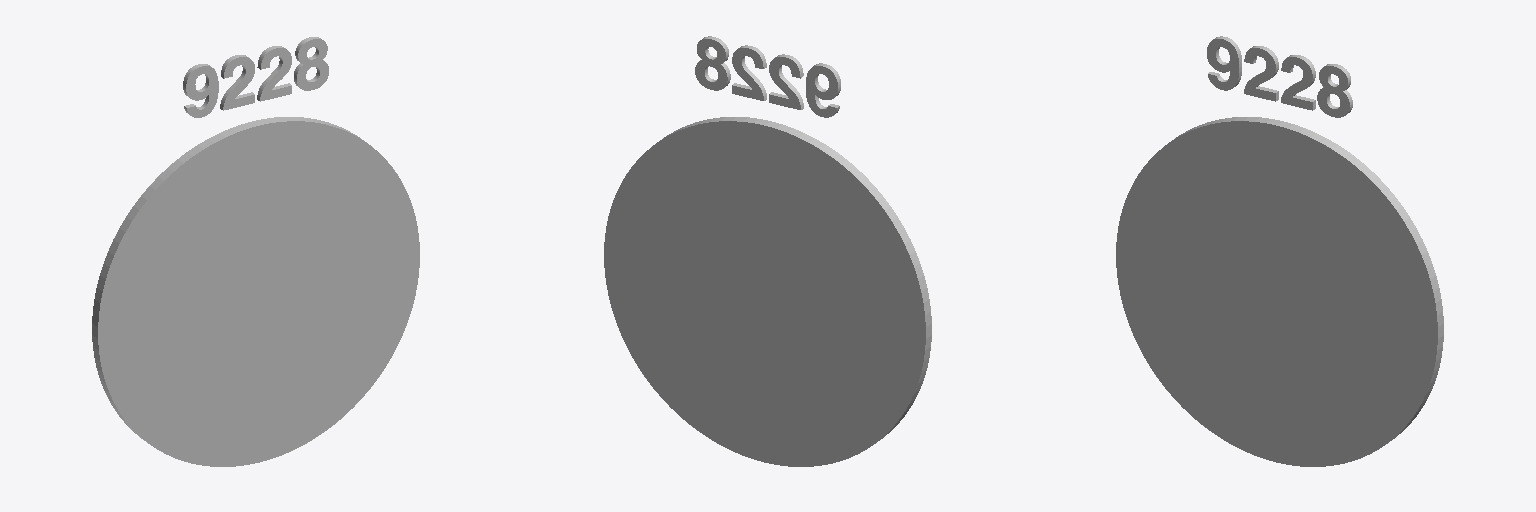
File: TAZO_CODIGO_9228.obj
The picture shows the model from 3 angles: view 1: azimuth 30°, elevation 25°; view 2: azimuth 150°, elevation 25°; view 3: azimuth 330°, elevation 25°; orthographic projection.
Parts seen in each view (by area): view 1: CARA_FRONTAL, 9228, EXTRUDE; view 2: CARA_TRASERA, 9228, EXTRUDE; view 3: CARA_FRONTAL, 9228, EXTRUDE.
Boxes of the visible parts, x1=… form: CARA_FRONTAL: x1=98, y1=121, x2=419, y2=466; 9228: x1=183, y1=37, x2=328, y2=117; EXTRUDE: x1=92, y1=117, x2=366, y2=440; CARA_TRASERA: x1=604, y1=121, x2=925, y2=466; 9228: x1=695, y1=36, x2=840, y2=117; EXTRUDE: x1=657, y1=117, x2=931, y2=440; CARA_FRONTAL: x1=1116, y1=121, x2=1437, y2=466; 9228: x1=1207, y1=36, x2=1352, y2=117; EXTRUDE: x1=1169, y1=117, x2=1443, y2=440.
Size of the model in its own units: 3002 by 3644 by 98.07.